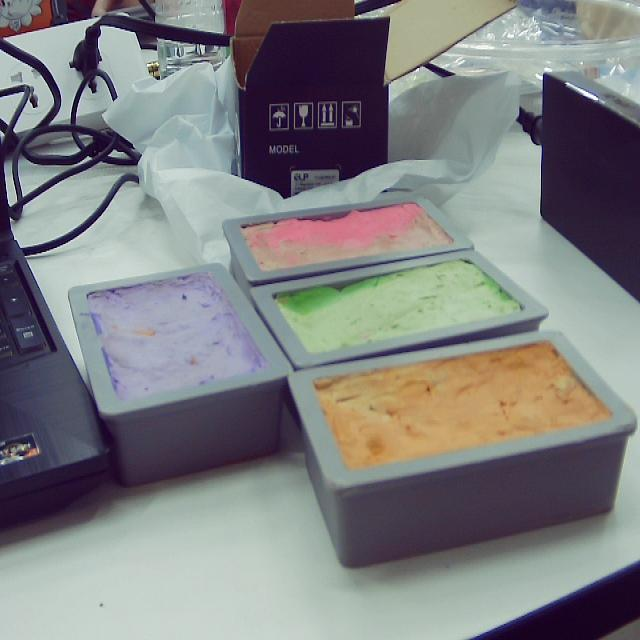block: (288, 326, 638, 565), (66, 262, 294, 486), (244, 249, 544, 373), (219, 196, 470, 289)
